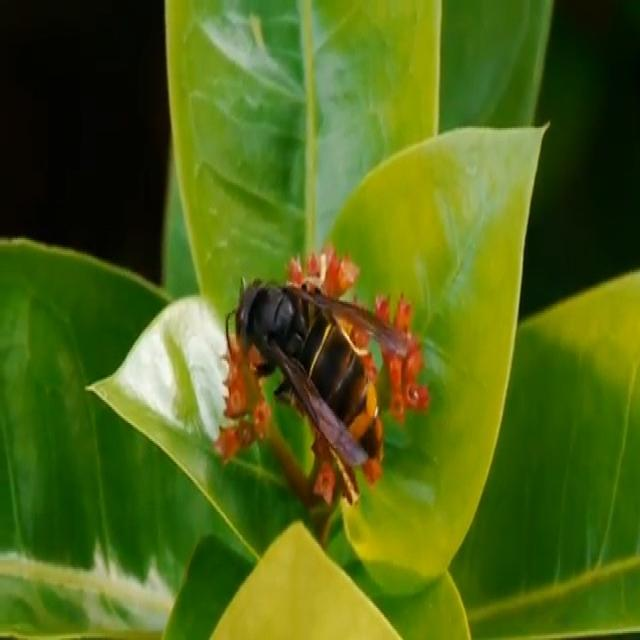Hornets: (224, 278, 406, 492)
